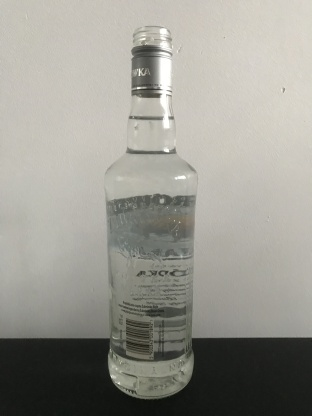nakretka: (129, 24, 174, 97)
